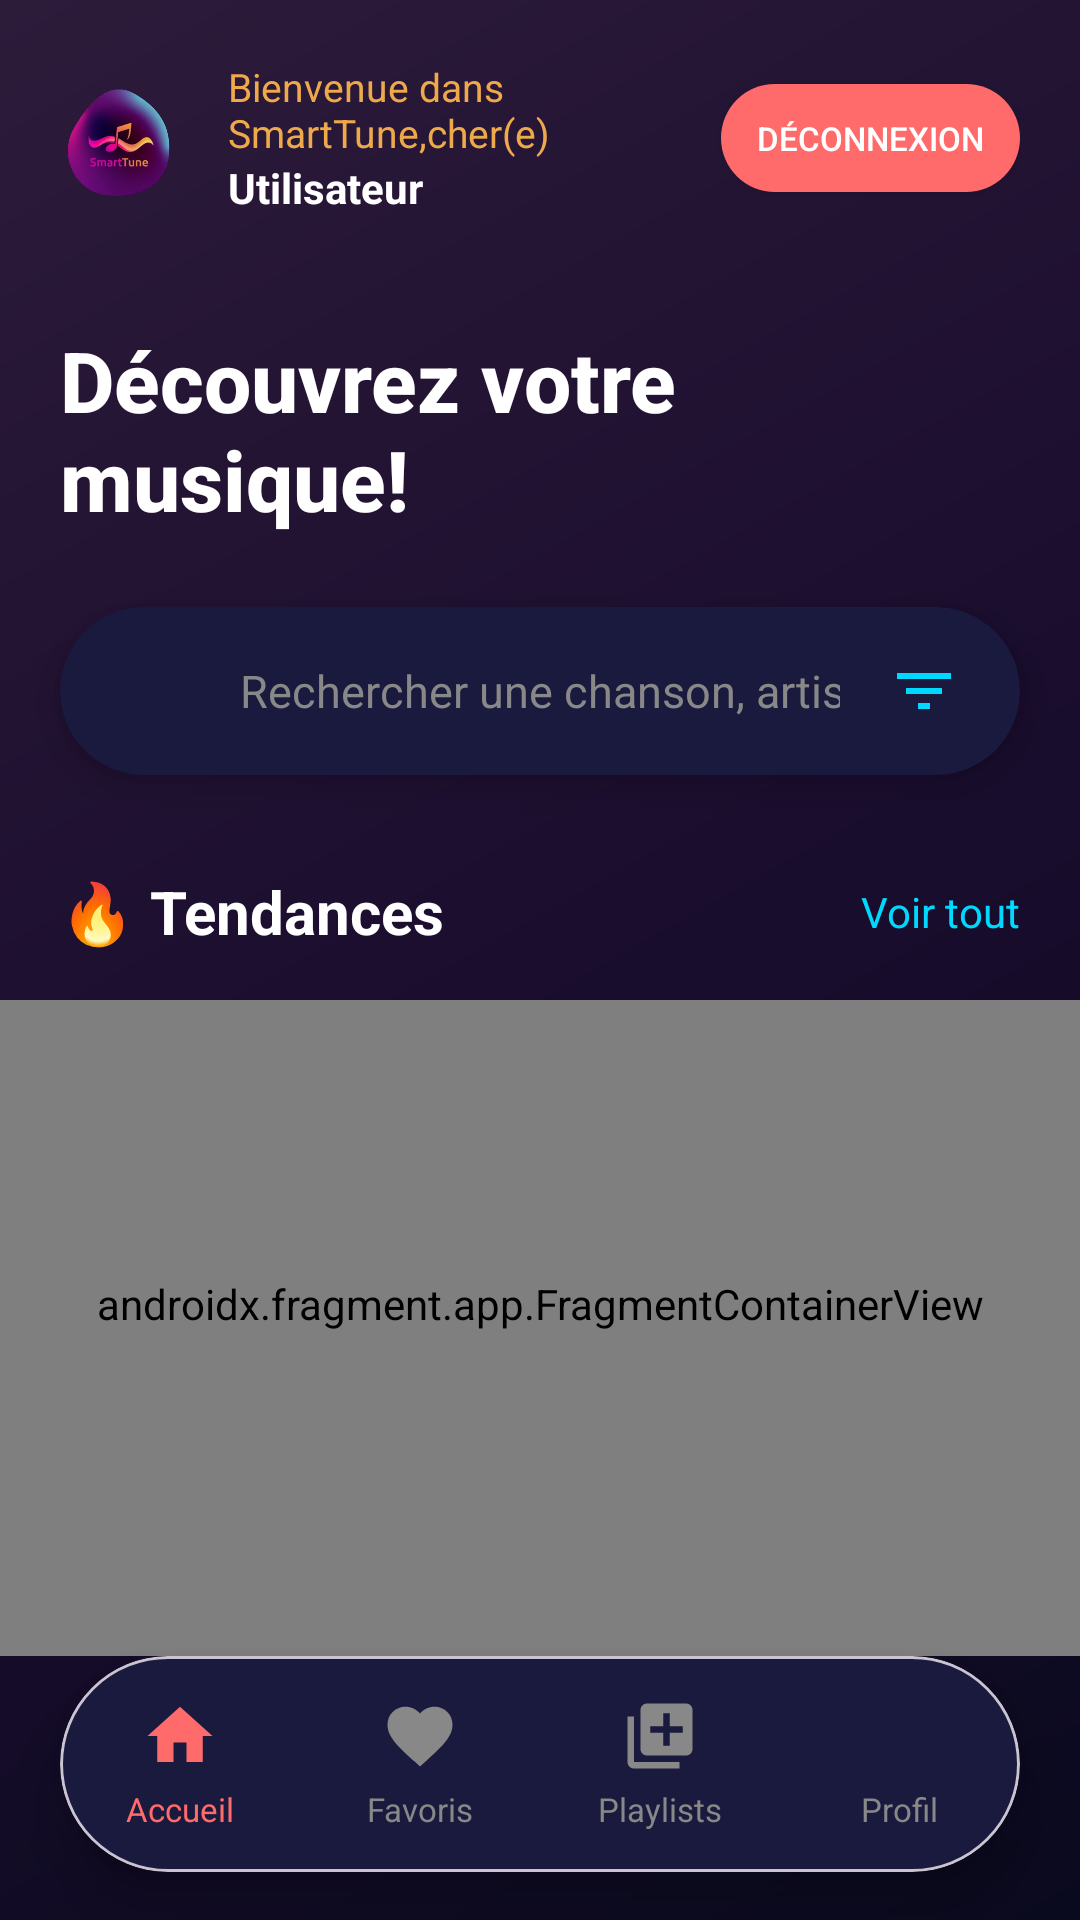

Screen size 1080px×1920px. Icon name, then its box in pixels as (x1, y1, x2, y2):
Filtrer: (897, 673, 951, 709)
library: (627, 1703, 693, 1769)
